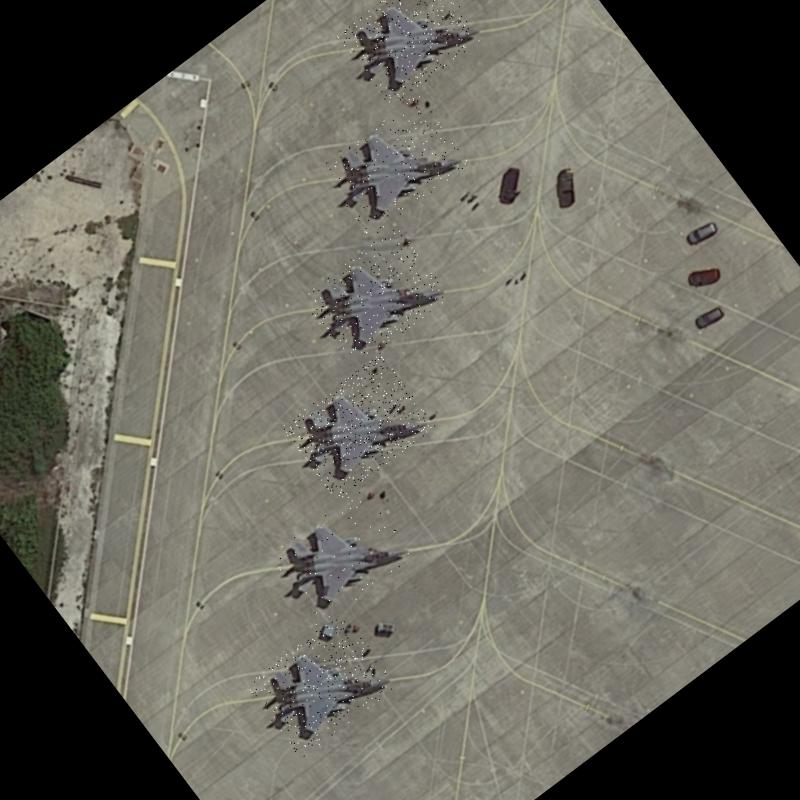A13: (282, 352, 436, 501), (245, 610, 399, 758), (316, 92, 470, 238), (265, 483, 418, 629), (299, 225, 451, 370), (336, 0, 483, 107)
